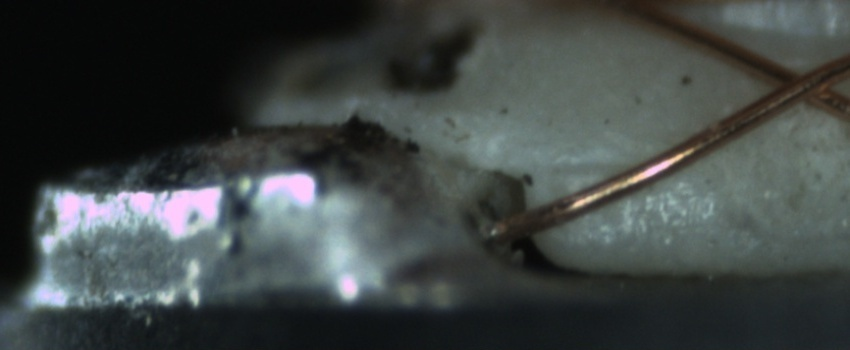CL: (755, 51, 845, 114)
DL: (539, 137, 665, 192)
